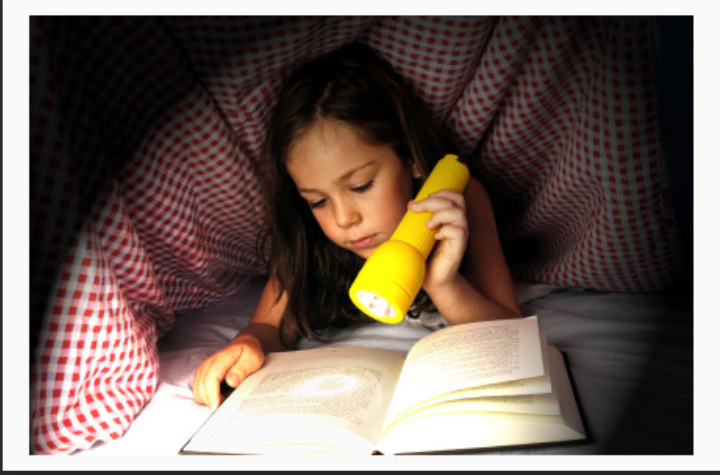book: (177, 317, 590, 451)
